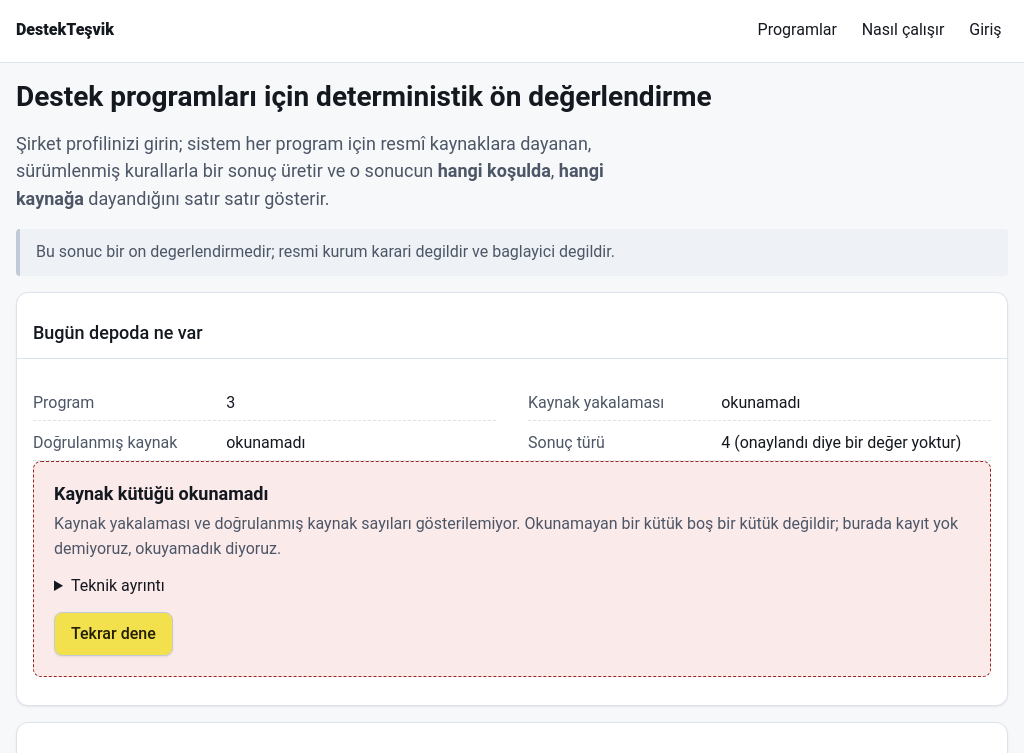
Test: the public landing page counts nothing it did not read › shows the real figures once the retry succeeds
Expected: the heading "Bugün depoda ne var" is shown, x1=33 y1=322 x2=203 y2=343
Step 1. Click the button "Tekrar dene" → (113, 634), box x1=54 y1=612 x2=173 y2=656
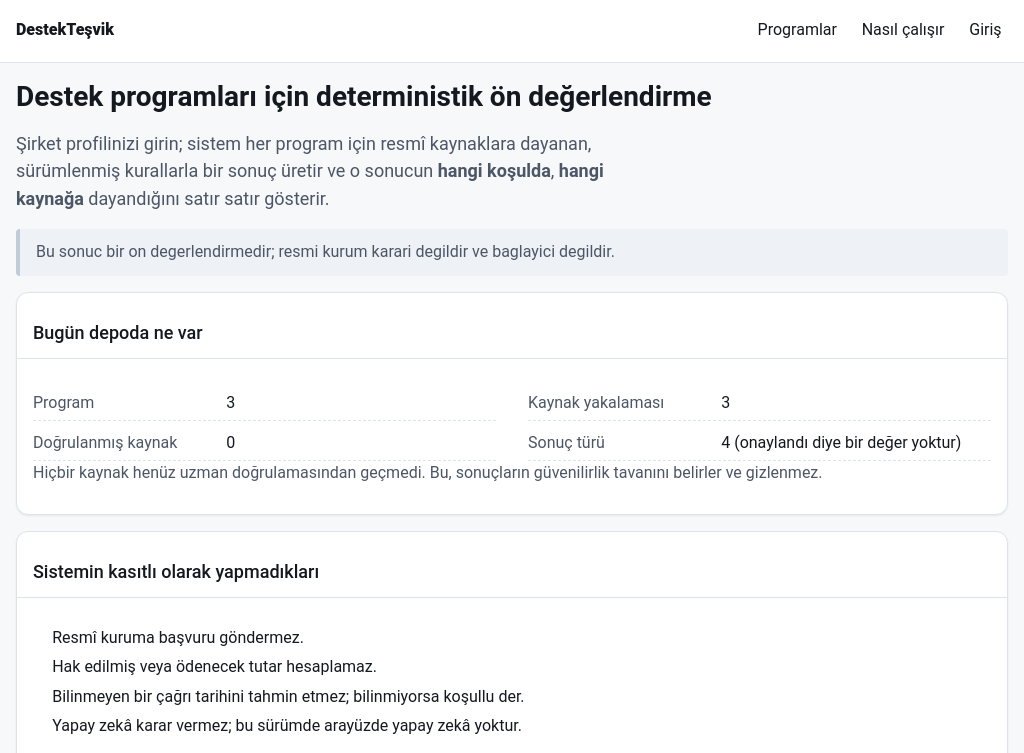
Expected: the text "3" is shown 2 times, x1=226 y1=393 x2=235 y2=412; x1=721 y1=393 x2=730 y2=412
Result: the text "Bugün depoda ne var" no longer shows "okunamadı"
